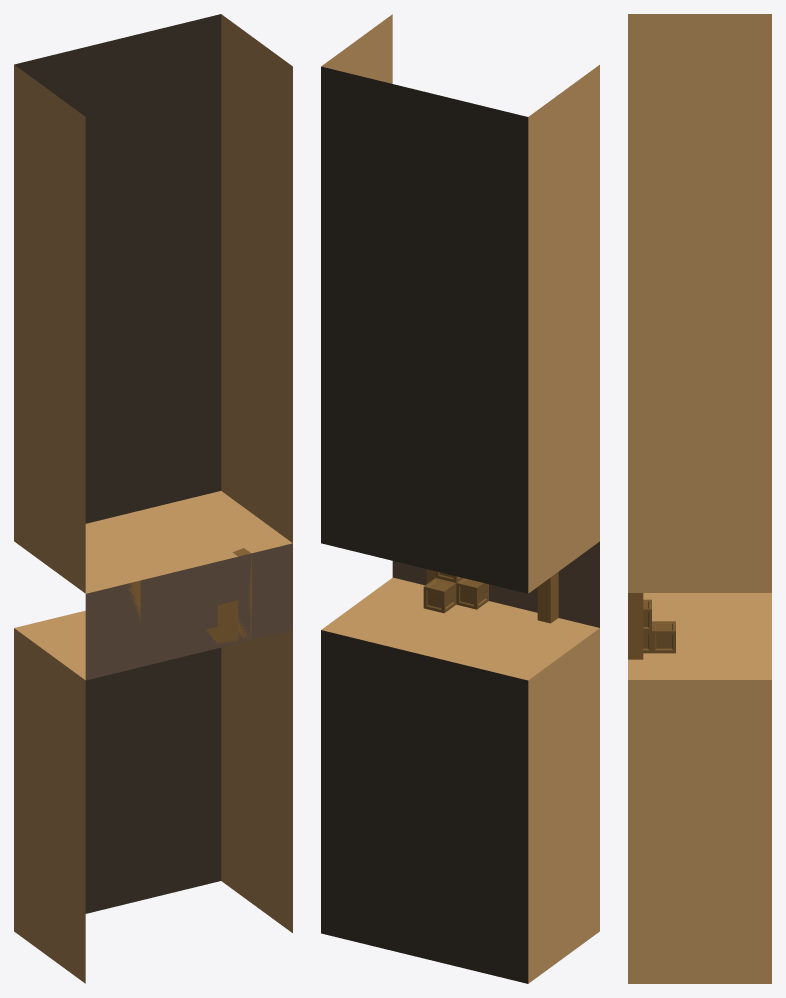
File: Gang2.fbx
3 renders of one model, left to right at view 1: azimuth 30°, elevation 25°; view 2: azimuth 150°, elevation 25°; view 3: azimuth 270°, elevation 25°, orthographic.
Parts seen in each view (by area): view 1: Plane.004; view 2: Plane.004; view 3: Plane.004.
Boxes of the visible parts, x1=… form: Plane.004: x1=14, y1=14, x2=292, y2=983; Plane.004: x1=321, y1=14, x2=599, y2=983; Plane.004: x1=628, y1=14, x2=771, y2=983.
Size of the model in its own units: 1000 by 4000 by 600.
